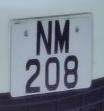0: (43, 55, 63, 93)
2: (22, 55, 44, 97)
8: (62, 54, 81, 92)
M: (53, 15, 73, 57)
N: (33, 15, 55, 59)
